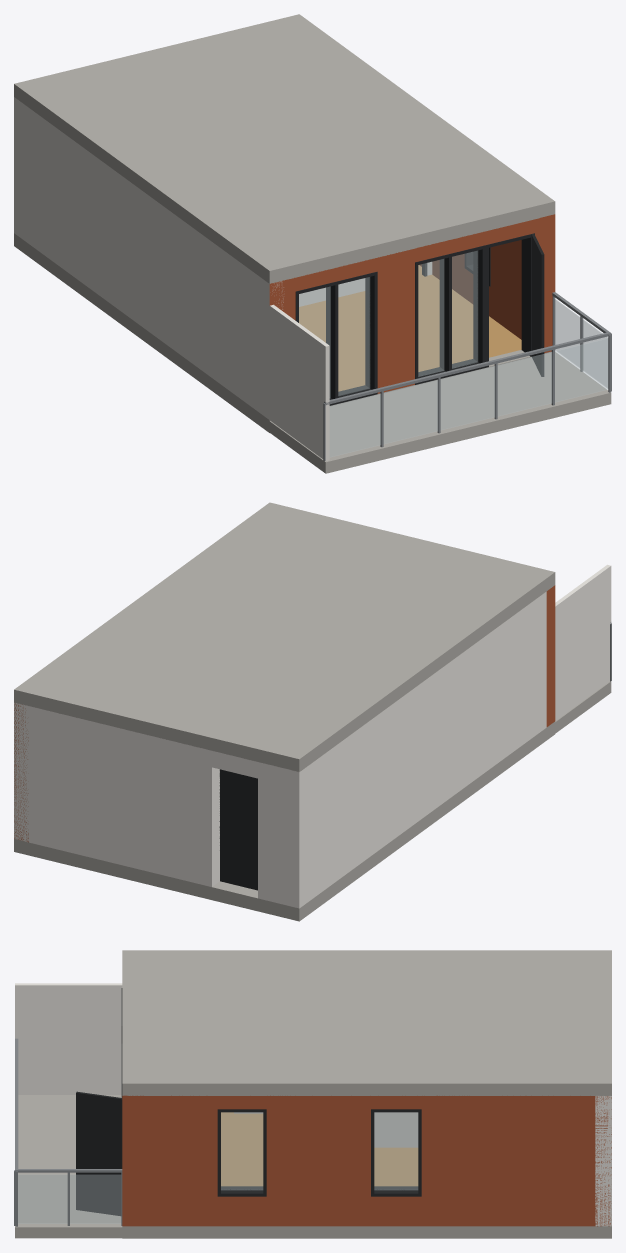
Rendered from HOEF-163.glb.
The picture shows the model from 3 angles, top to bottom: view 1: azimuth 30°, elevation 25°; view 2: azimuth 150°, elevation 25°; view 3: azimuth 270°, elevation 25°; orthographic projection. The views are drawn at different scales.
Parts seen in each view (by area): view 1: plafond, HOEF-Ede-Appartement-163, balkon, balkonplaat, vloer, privacyscherm, vloerplaat; view 2: plafond, HOEF-Ede-Appartement-163, vloerplaat, privacyscherm, balkonplaat; view 3: plafond, HOEF-Ede-Appartement-163, privacyscherm, balkonplaat, vloerplaat, balkon, vloer (×2).
Boxes of the visible parts, box(x1,y1,x2,y2) form: plafond: box(14, 14, 555, 283); HOEF-Ede-Appartement-163: box(14, 97, 555, 419); balkon: box(323, 292, 611, 461); balkonplaat: box(269, 352, 611, 473); vloer: box(299, 275, 521, 391); privacyscherm: box(269, 304, 329, 460); vloerplaat: box(14, 233, 551, 432); plafond: box(14, 502, 555, 771); HOEF-Ede-Appartement-163: box(14, 585, 555, 908); vloerplaat: box(14, 721, 555, 921); privacyscherm: box(555, 564, 611, 720); balkonplaat: box(555, 681, 611, 733); plafond: box(122, 950, 611, 1095); HOEF-Ede-Appartement-163: box(76, 988, 611, 1226); privacyscherm: box(15, 983, 122, 1094); balkonplaat: box(15, 1095, 122, 1238); vloerplaat: box(122, 1226, 611, 1238); balkon: box(14, 1038, 122, 1226); vloer (×2): box(221, 1112, 418, 1186).
Size of the model in its own units: 5.77 by 3.12 by 10.87.
